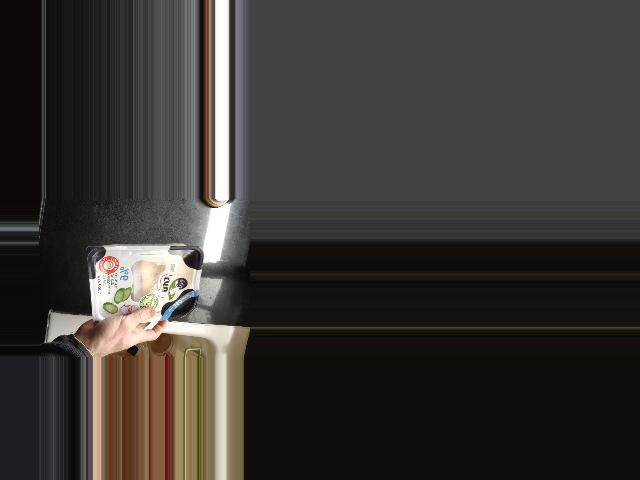cheese: (87, 245, 201, 330)
